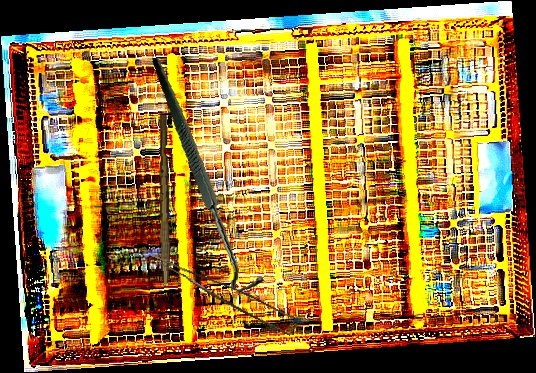Hook Surgical: (124, 57, 291, 294)
Scalpel Handle: (156, 114, 174, 284)
Tissue Forceps: (143, 254, 299, 336)
